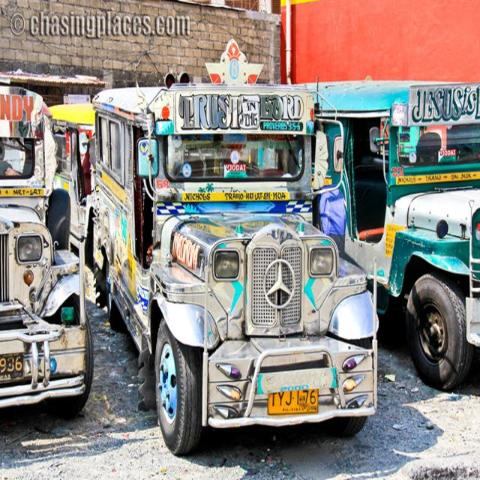jeepney: (92, 89, 389, 451), (317, 64, 480, 418), (1, 86, 99, 427)
